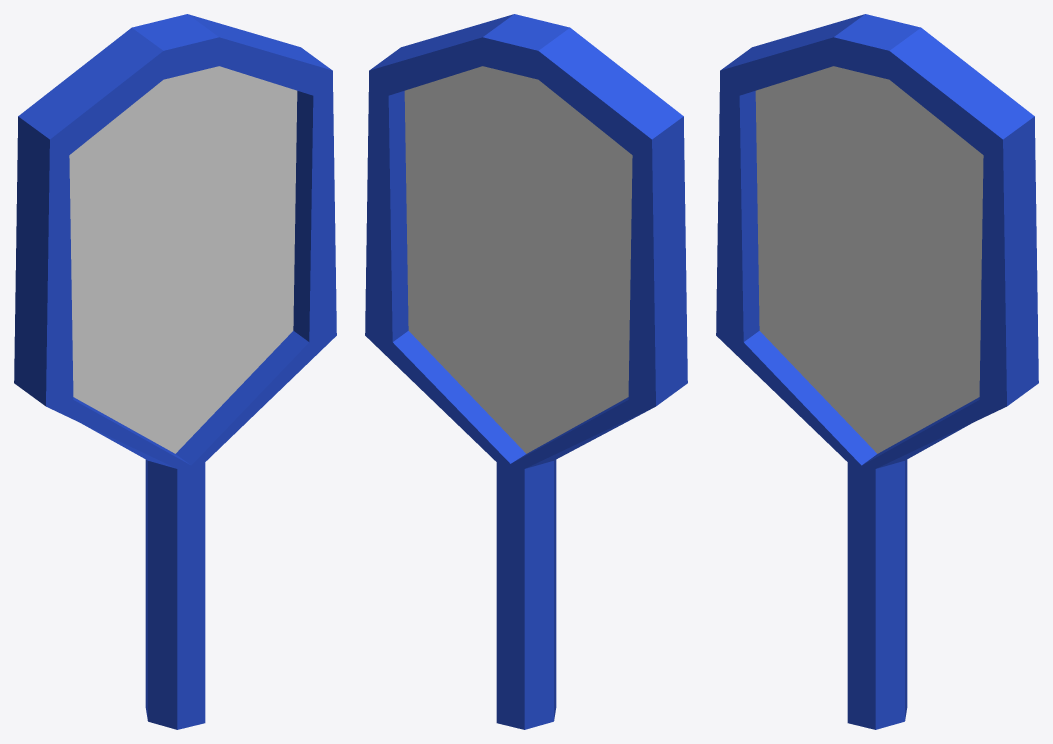
File: rakete1.glb
The picture shows the model from 3 angles, left to right: view 1: azimuth 30°, elevation 25°; view 2: azimuth 150°, elevation 25°; view 3: azimuth 330°, elevation 25°; orthographic projection.
Visible parts, largest first — view 1: Cube; view 2: Cube; view 3: Cube.
Boxes of the visible parts, x1,y1,x2,y2 form: Cube: (14, 14, 336, 729); Cube: (365, 14, 687, 729); Cube: (716, 14, 1038, 729).
Bounding box in the file's own units: 0.3168 × 0.7102 × 0.06.
